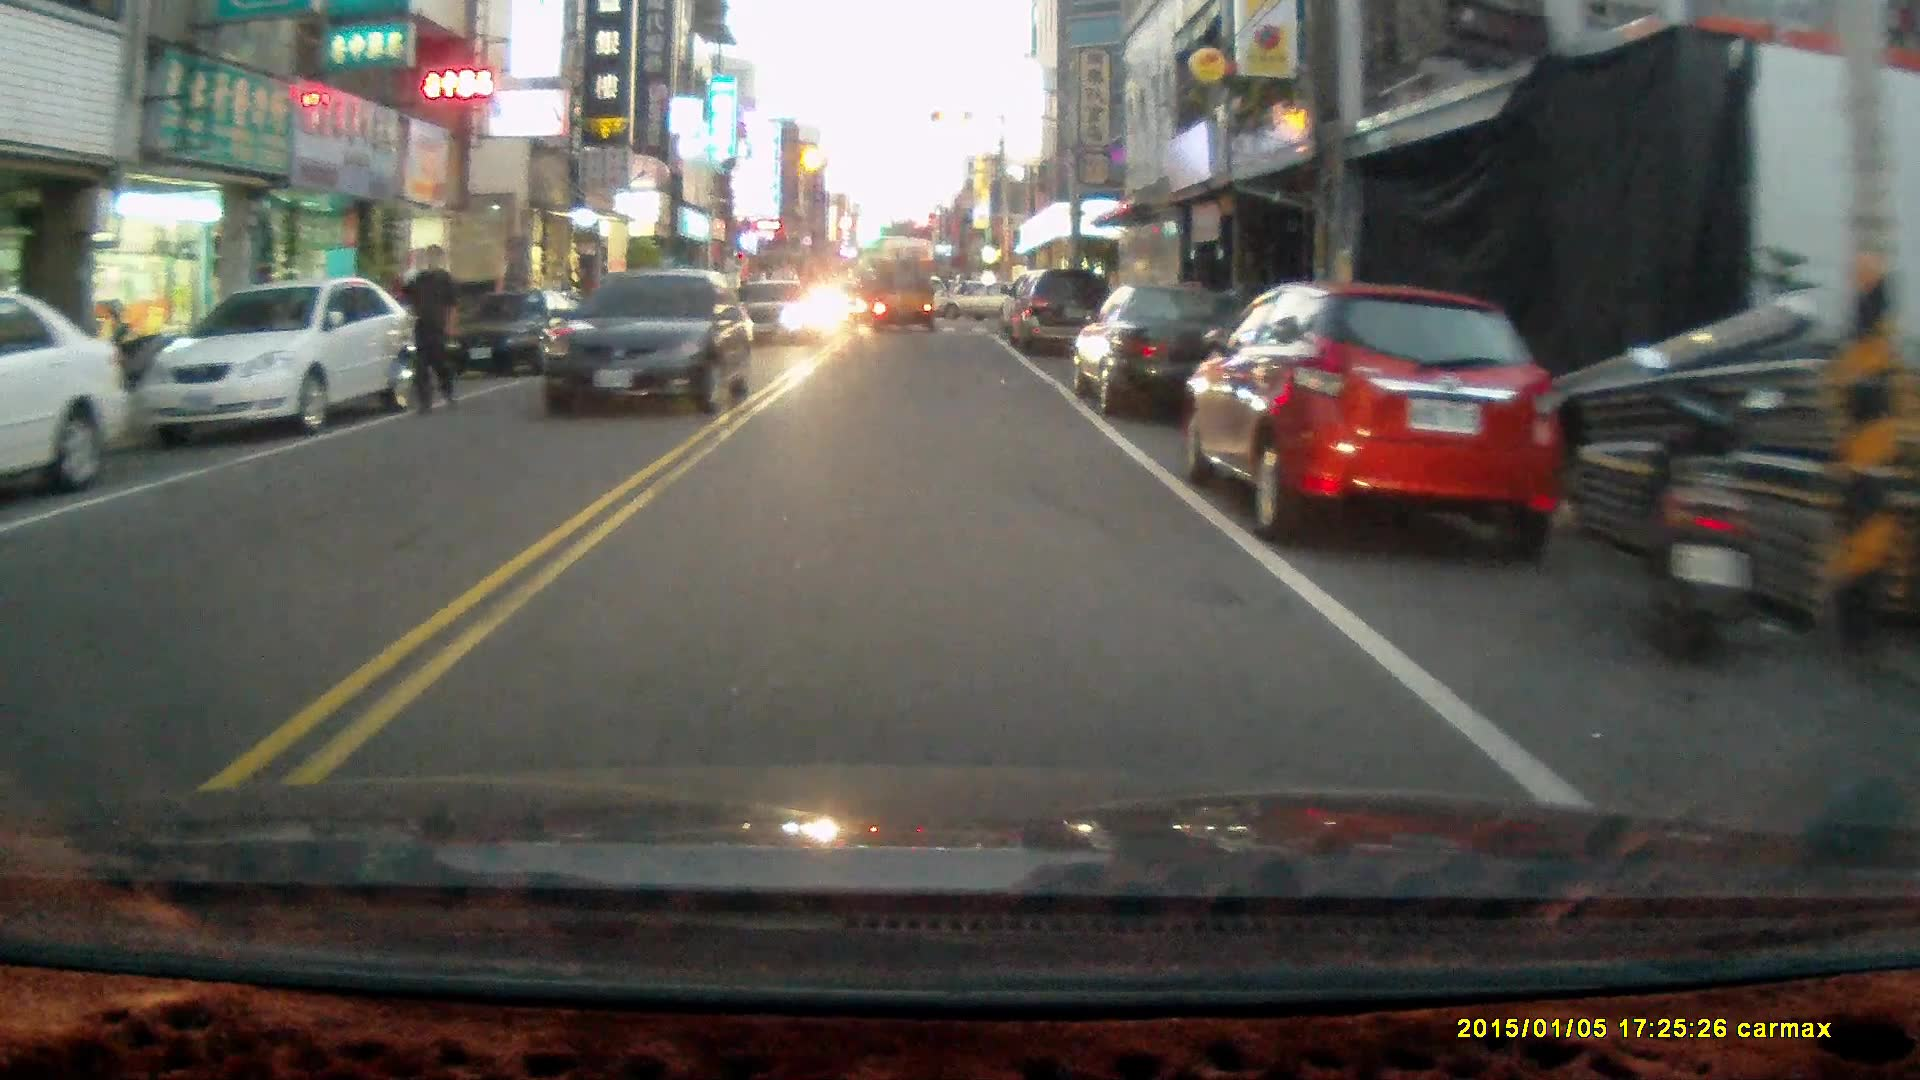pedestrian: (395, 241, 463, 417)
vehicle: (1187, 288, 1572, 561), (141, 274, 417, 436), (535, 264, 757, 414), (1, 296, 136, 509), (1071, 284, 1256, 423), (448, 290, 585, 387), (999, 268, 1120, 360), (871, 263, 938, 338)
